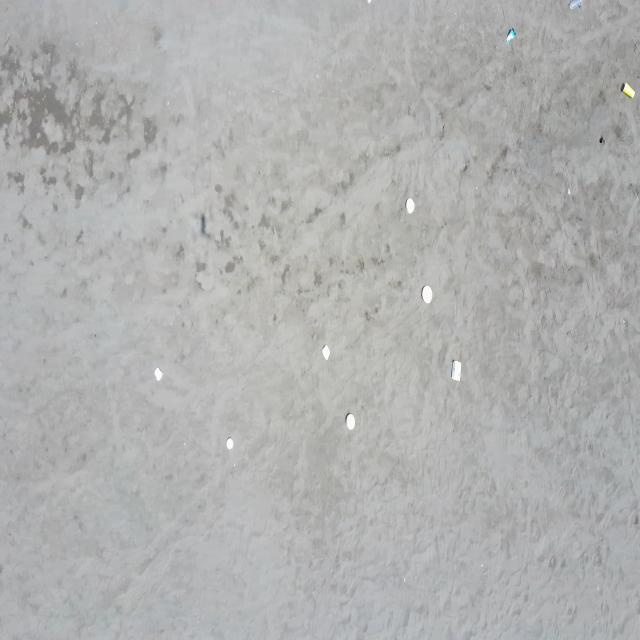take-away-containers: (451, 358, 462, 382), (422, 284, 432, 304), (406, 197, 416, 215), (154, 366, 163, 382), (322, 344, 331, 360), (346, 413, 355, 429), (226, 437, 234, 450)
takeaway-cup: (623, 81, 635, 100), (506, 28, 516, 44), (569, 0, 583, 11)
